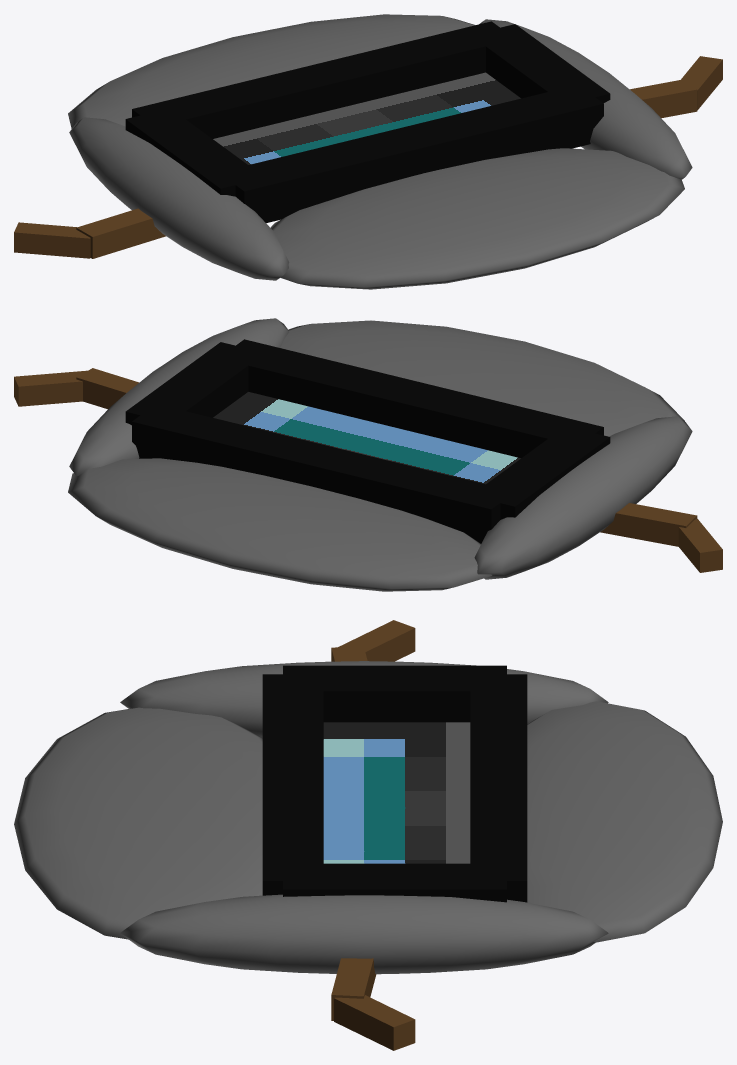
File: CMU3DClothingHeadHatWeldingWorldCloud.glb
3 views of the same model, one above another, from view 1: azimuth 30°, elevation 25°; view 2: azimuth 150°, elevation 25°; view 3: azimuth 270°, elevation 25° (orthographic). The views are drawn at different scales.
Parts seen in each view (by area): view 1: lower continuous mask plate, optical bezel lower, optical bezel upper, upper continuous mask plate, left shield side, original tinted protective lens, right shield side, optical bezel left, optical bezel right, left side strap attachment, left swept strap end, right side strap attachment (+1 smaller); view 2: upper continuous mask plate, lower continuous mask plate, optical bezel upper, optical bezel lower, left shield side, original tinted protective lens, right shield side, optical bezel right, optical bezel left, left side strap attachment, right swept strap end, left swept strap end (+1 smaller); view 3: lower continuous mask plate, upper continuous mask plate, right shield side, original tinted protective lens, optical bezel lower, optical bezel upper, optical bezel left, left shield side, optical bezel right, right swept strap end, left swept strap end, right side strap attachment.
Part boxes in pixels (left/top/right/bottom): lower continuous mask plate: left=270, top=148, right=684, bottom=289; optical bezel lower: left=219, top=85, right=603, bottom=223; optical bezel upper: left=132, top=21, right=514, bottom=138; upper continuous mask plate: left=68, top=14, right=475, bottom=128; left shield side: left=69, top=117, right=289, bottom=280; original tinted protective lens: left=213, top=72, right=520, bottom=164; right shield side: left=479, top=19, right=692, bottom=179; optical bezel left: left=125, top=108, right=264, bottom=196; optical bezel right: left=476, top=24, right=610, bottom=103; left side strap attachment: left=76, top=208, right=165, bottom=258; left swept strap end: left=14, top=222, right=90, bottom=258; right side strap attachment: left=630, top=79, right=697, bottom=118; upper continuous mask plate: left=68, top=458, right=492, bottom=591; lower continuous mask plate: left=280, top=320, right=684, bottom=436; optical bezel upper: left=132, top=411, right=515, bottom=543; optical bezel lower: left=219, top=339, right=603, bottom=458; left shield side: left=474, top=416, right=692, bottom=579; original tinted protective lens: left=213, top=392, right=520, bottom=484; right shield side: left=69, top=318, right=288, bottom=476; optical bezel right: left=125, top=342, right=264, bottom=425; optical bezel left: left=471, top=428, right=610, bottom=519; left side strap attachment: left=600, top=503, right=697, bottom=546; right swept strap end: left=14, top=370, right=87, bottom=406; left swept strap end: left=678, top=518, right=722, bottom=572; lower continuous mask plate: left=14, top=707, right=262, bottom=939; upper continuous mask plate: left=527, top=701, right=722, bottom=942; right shield side: left=120, top=894, right=608, bottom=974; original tinted protective lens: left=323, top=722, right=470, bottom=863; optical bezel lower: left=262, top=674, right=323, bottom=895; optical bezel upper: left=470, top=674, right=527, bottom=902; optical bezel left: left=283, top=665, right=506, bottom=722; left shield side: left=120, top=661, right=608, bottom=737; optical bezel right: left=283, top=863, right=506, bottom=902; right swept strap end: left=334, top=995, right=415, bottom=1050; left swept strap end: left=338, top=620, right=415, bottom=661; right side strap attachment: left=331, top=958, right=376, bottom=1020.
Size of the model in its own units: 0.7391 by 0.064 by 0.5437.
Materials: 4 (1 with a texture image).
